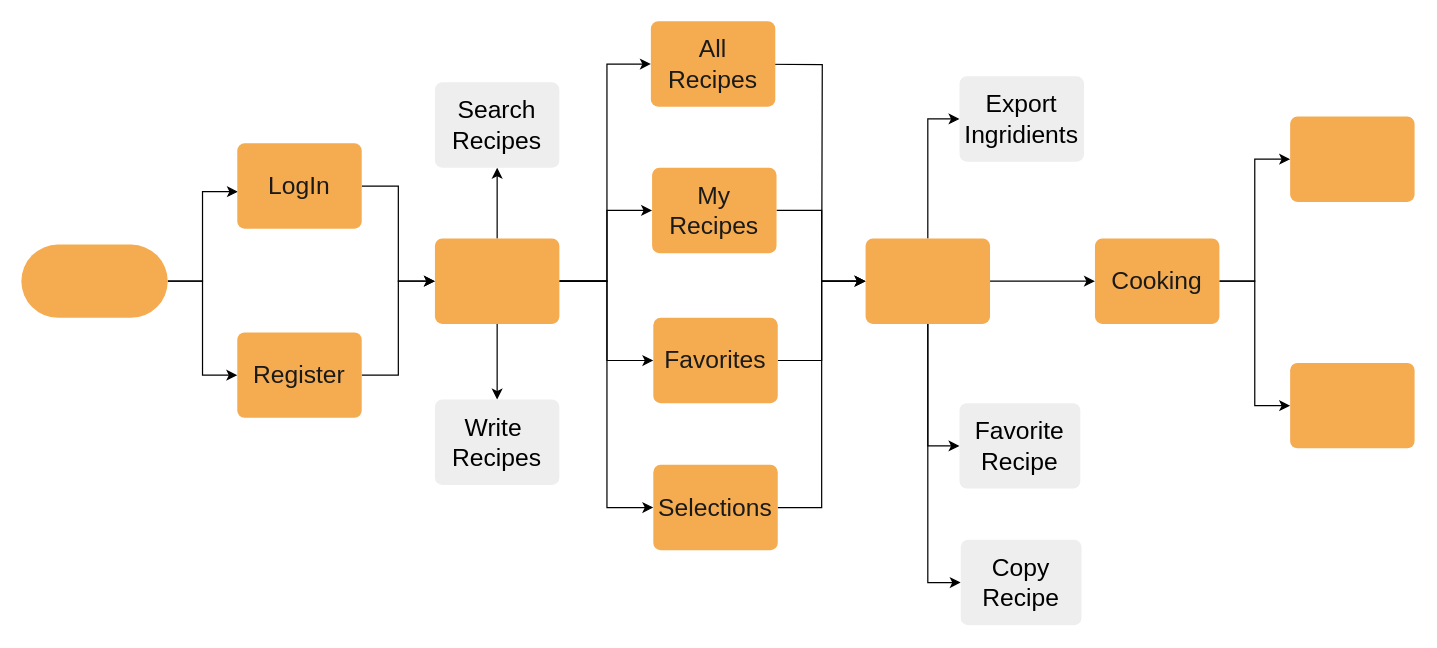
The diagram is 1437 pixels wide and 648 high, and some of its shapes have lost their labels. The shapes that lost their labels are listed below. From the top down, each one's box as (x1, y1, x2, y2) in pixels, then its label:
(1289, 115, 1415, 202): Music Counter
(20, 243, 168, 318): Landing
(433, 237, 560, 324): Home
(864, 237, 990, 324): Recipe
(1289, 361, 1415, 449): Steps
